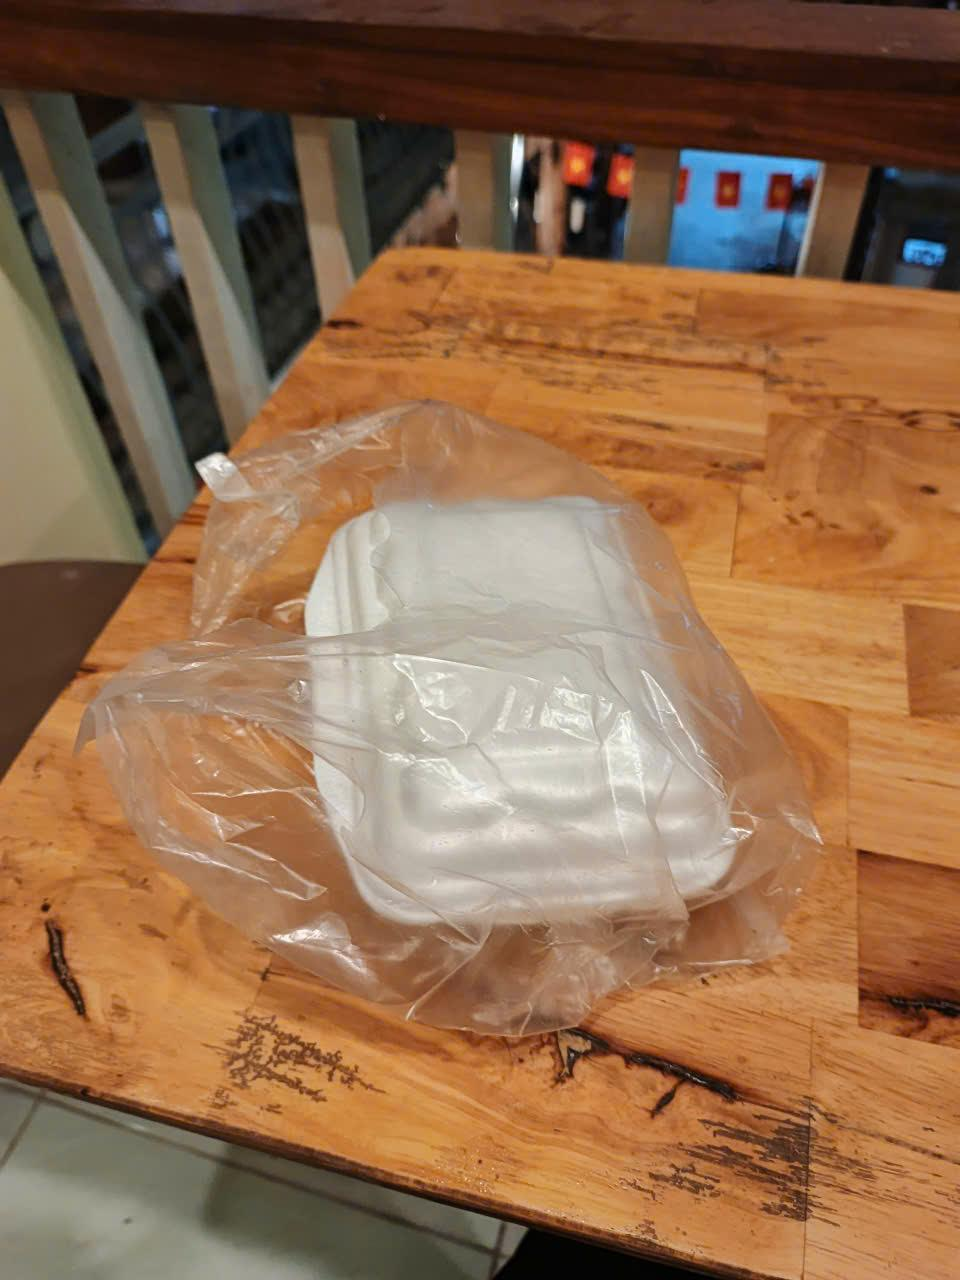Con lai: (297, 476, 756, 950)
